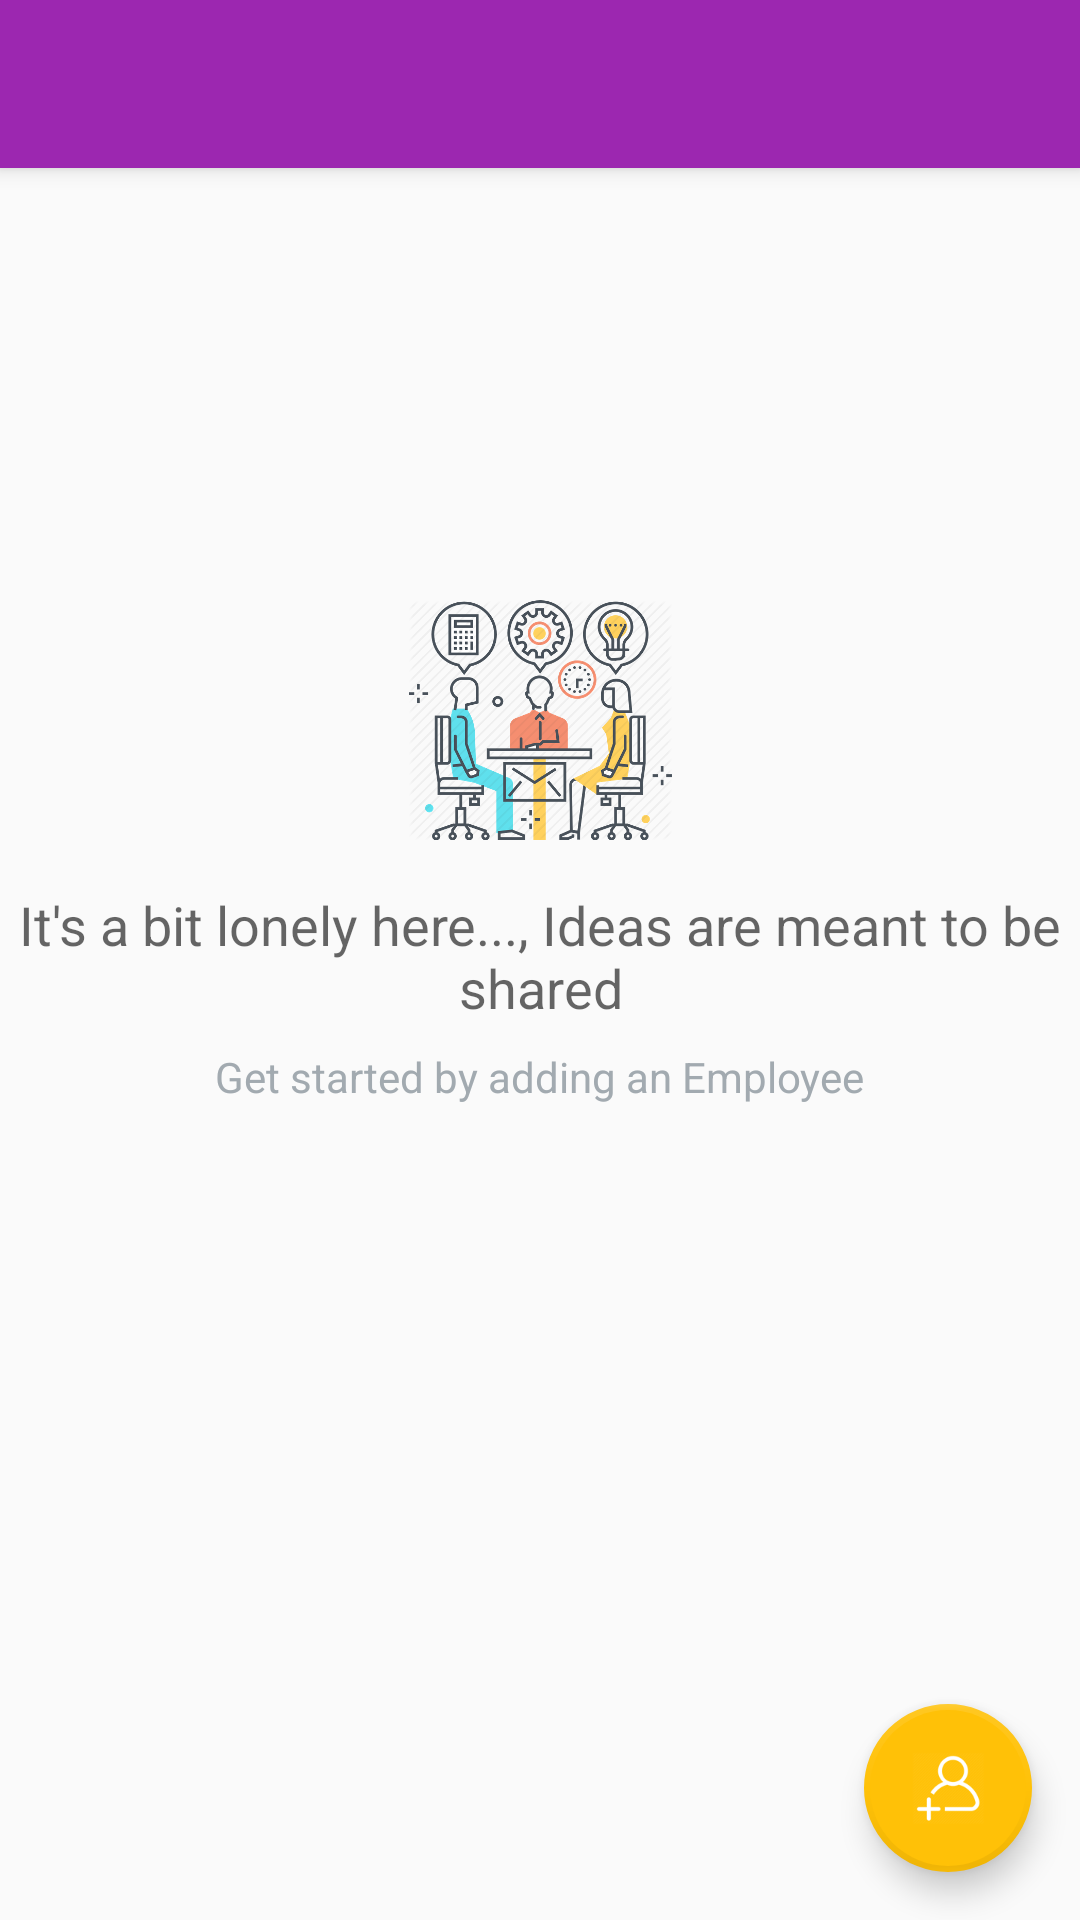

Icon click points for this 1080 x 1920 phone screenshot, format [x,y]:
empty view: [540,720]
user add: [948,1788]
